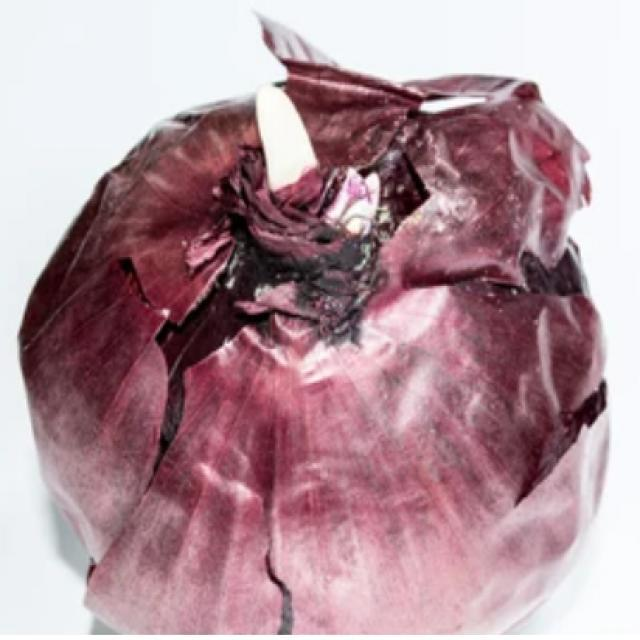rotten: (200, 151, 390, 332)
